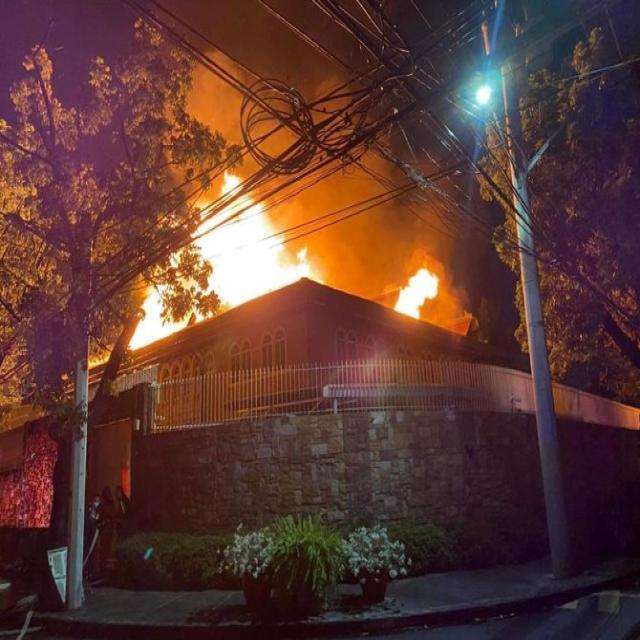Fire: (195, 206, 310, 307), (120, 278, 196, 355), (397, 268, 446, 330)
Smoke: (162, 61, 474, 259)
